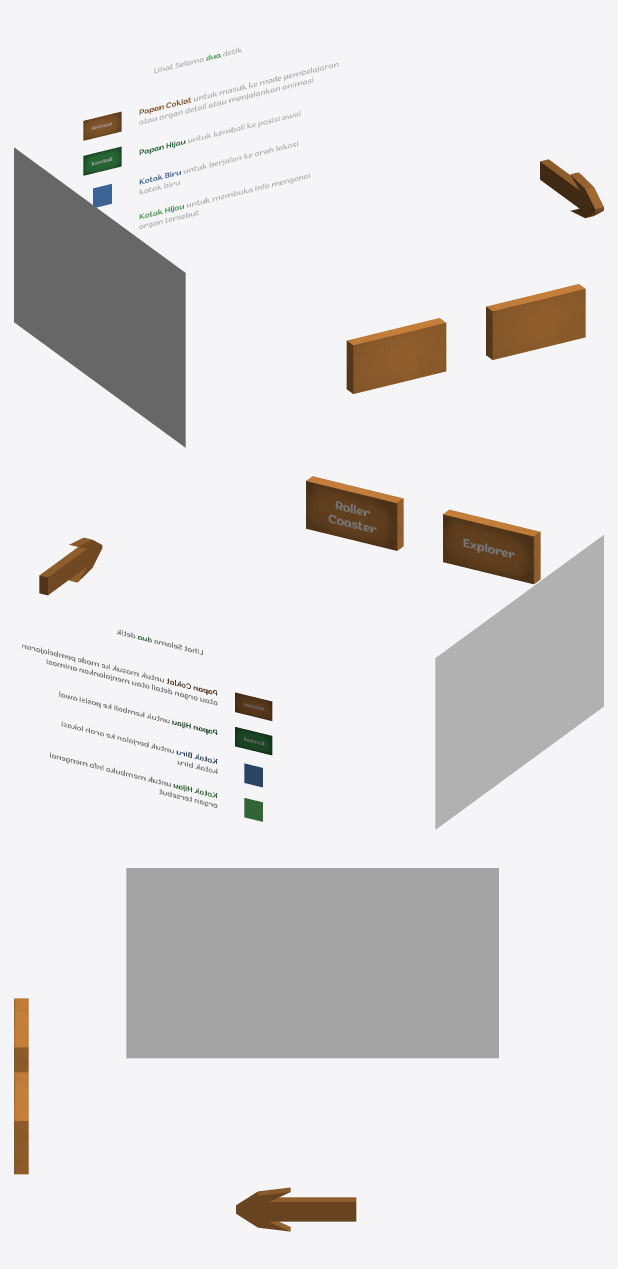
The model's file is Main Menu v2.fbx.
3 views of the same model, one above another, from view 1: azimuth 30°, elevation 25°; view 2: azimuth 150°, elevation 25°; view 3: azimuth 270°, elevation 25° (orthographic). The views are drawn at different scales.
Visible parts, largest first — view 1: Judul, Papan.Explorer, Plane, Papan.RollerCoaster, Panah1; view 2: Judul, Plane, Papan.Explorer, Papan.RollerCoaster, Panah1; view 3: Judul, Panah1, Papan.RollerCoaster, Papan.Explorer.
Part boxes in pixels (box(x1,y1,x2,y2)): Judul: box(14, 147, 185, 447); Papan.Explorer: box(346, 318, 446, 393); Plane: box(83, 47, 338, 229); Papan.RollerCoaster: box(486, 284, 585, 359); Panah1: box(540, 159, 603, 218); Judul: box(435, 535, 603, 829); Plane: box(22, 629, 272, 821); Papan.Explorer: box(443, 509, 540, 584); Papan.RollerCoaster: box(306, 476, 403, 550); Panah1: box(39, 537, 102, 595); Judul: box(126, 868, 498, 1058); Panah1: box(236, 1187, 356, 1231); Papan.RollerCoaster: box(14, 1072, 28, 1174); Papan.Explorer: box(14, 998, 28, 1072).
Size of the model in its own units: 1010 by 370 by 1013.
